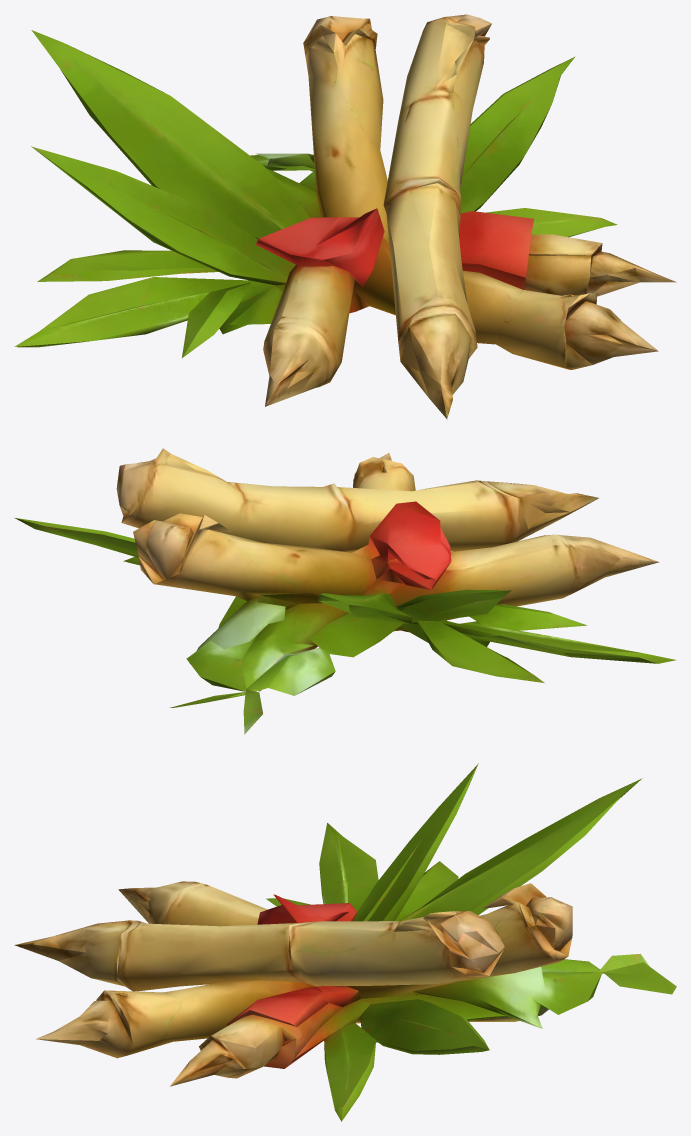
The model's file is bambooSnack.glb.
The picture shows the model from 3 angles, top to bottom: view 1: azimuth 30°, elevation 25°; view 2: azimuth 150°, elevation 25°; view 3: azimuth 270°, elevation 25°; orthographic projection. The views are drawn at different scales.
Visible parts, largest first — view 1: model; view 2: model; view 3: model.
Boxes of the visible parts, x1=… form: model: x1=14, y1=14, x2=676, y2=419; model: x1=14, y1=448, x2=676, y2=734; model: x1=14, y1=763, x2=676, y2=1121.
Size of the model in its own units: 1.84 by 0.5406 by 1.8.
Materials: 1 (1 with a texture image).
